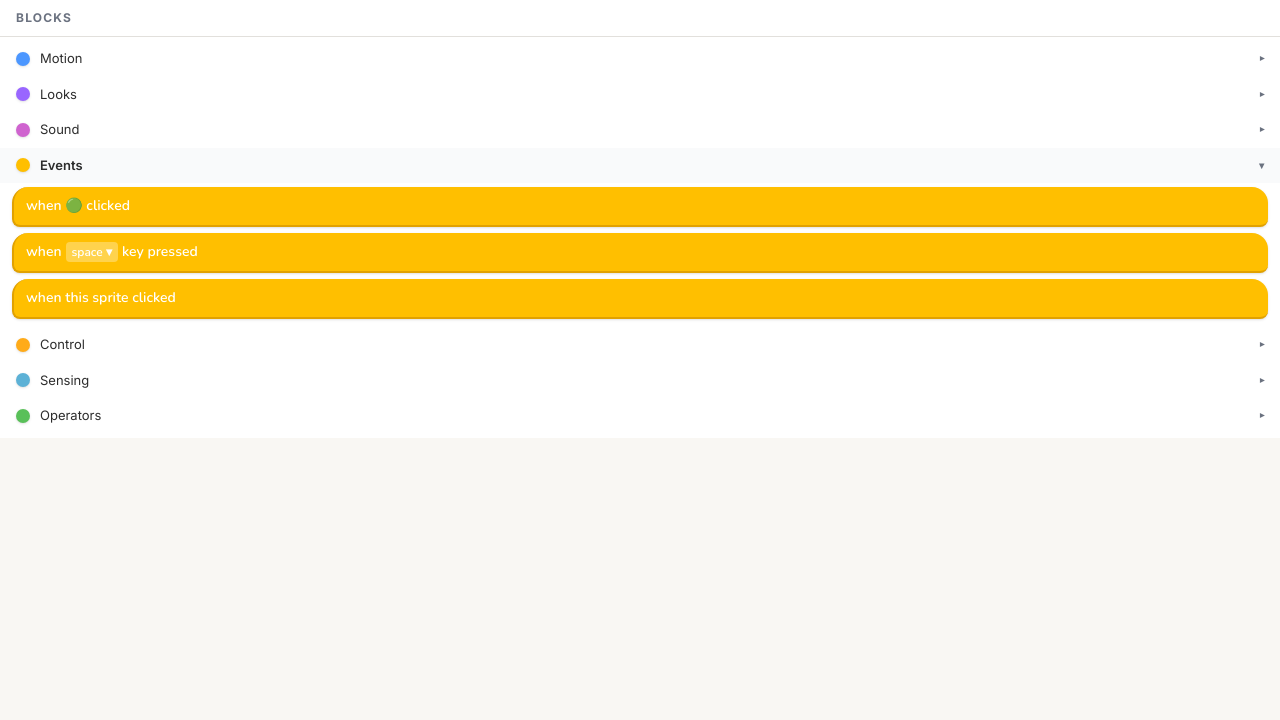
Test: BlockPalette › expands category to show blocks on click
The image size is (1280, 720).
Click the text "Motion" at coordinates (61, 58), box [40,50,82,66]
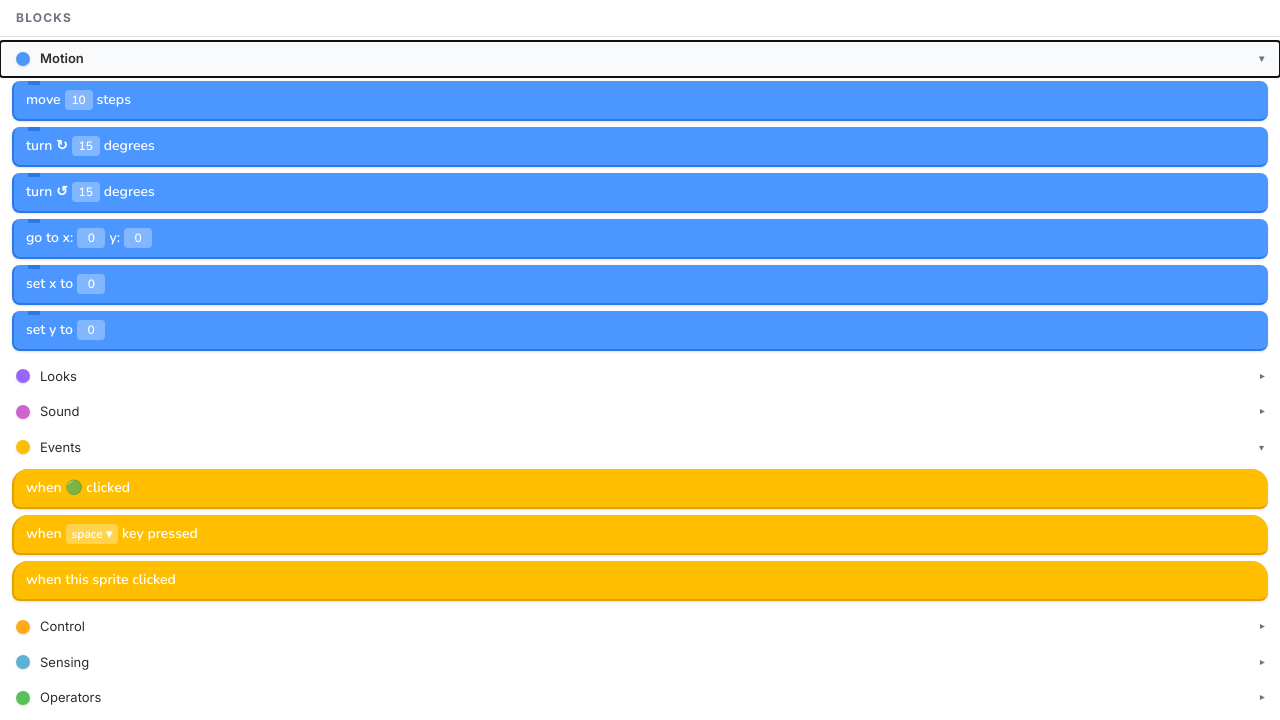
expect the text "move" is shown: met, box [26,90,61,110]
expect the text "steps" is shown: met, box [97,90,131,110]
